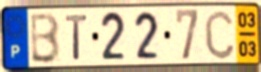2: (100, 8, 130, 65), (132, 9, 163, 63)
7: (174, 8, 201, 63)
B: (30, 11, 62, 66)
C: (203, 8, 237, 61)
T: (64, 14, 90, 62)
